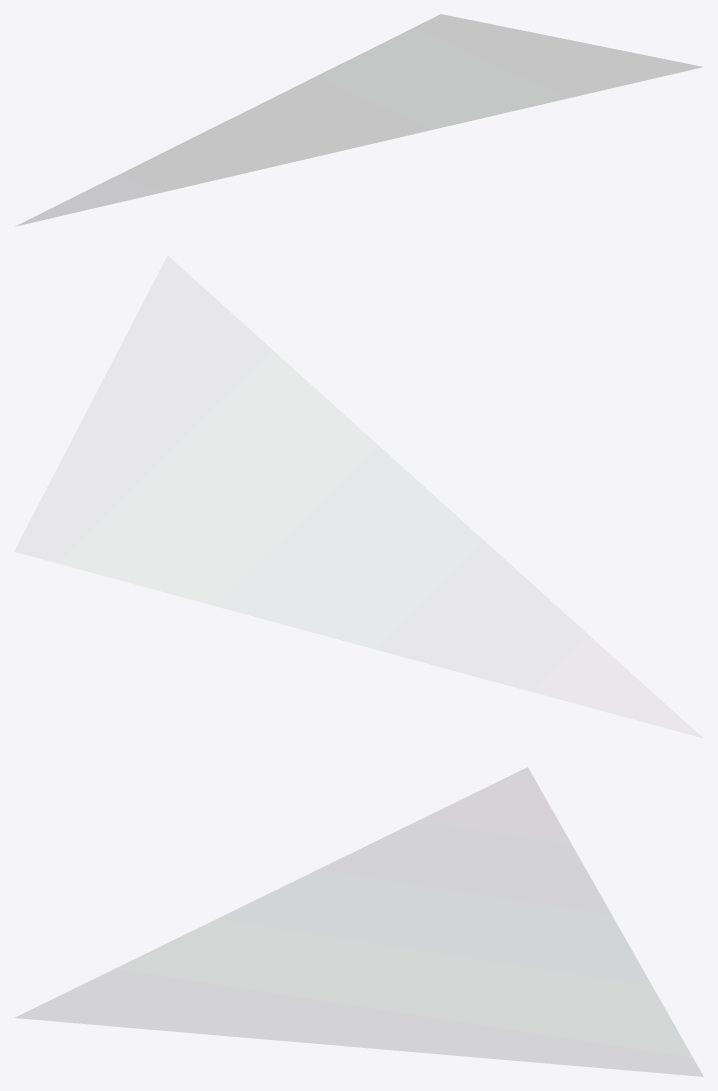
The model's file is mp-0558-geode.glb.
The picture shows the model from 3 angles, top to bottom: view 1: azimuth 30°, elevation 25°; view 2: azimuth 150°, elevation 25°; view 3: azimuth 270°, elevation 25°; orthographic projection. The views are drawn at different scales.
Parts seen in each view (by area): view 1: Node; view 2: Node; view 3: Node.
Boxes of the visible parts, box(x1,y1,x2,y2) form: Node: box(15, 14, 702, 226); Node: box(14, 255, 703, 738); Node: box(14, 767, 703, 1076).
Bounding box in the file's own units: 0.1747 × 0.0394 × 0.1047.
Materials: 1 (1 with a texture image).
